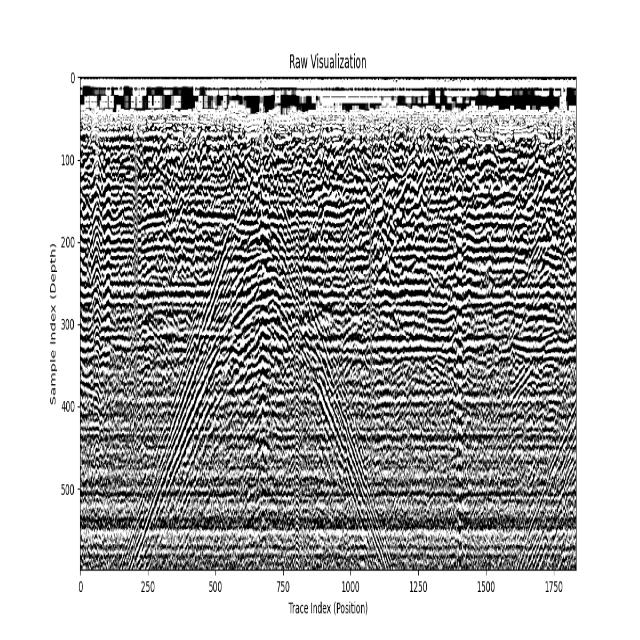anomaly: (117, 139, 403, 572), (516, 402, 574, 563), (82, 144, 111, 411), (452, 154, 465, 572)
